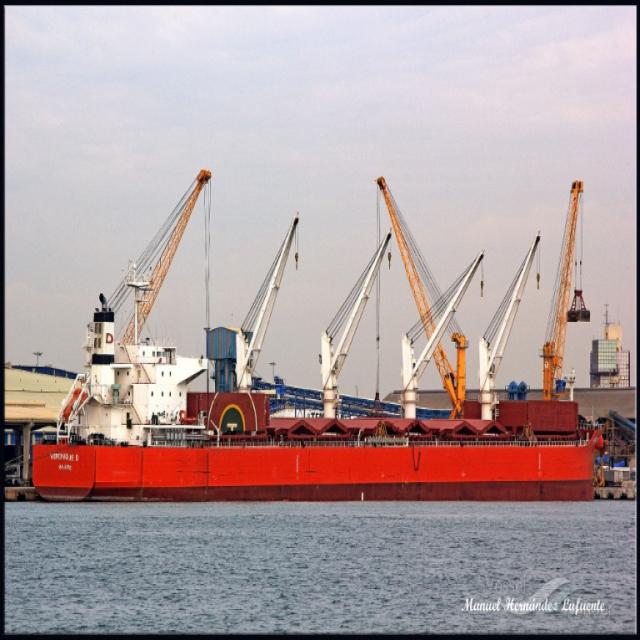OCR: (44, 445, 79, 478)
